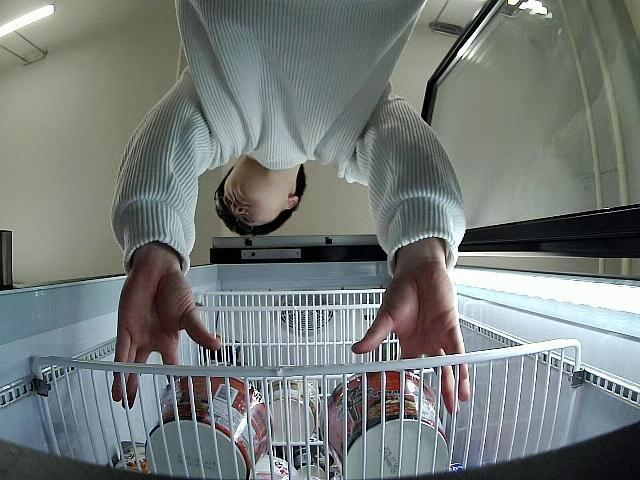01_ShinRamen_L: (322, 371, 451, 480), (145, 375, 272, 480)
